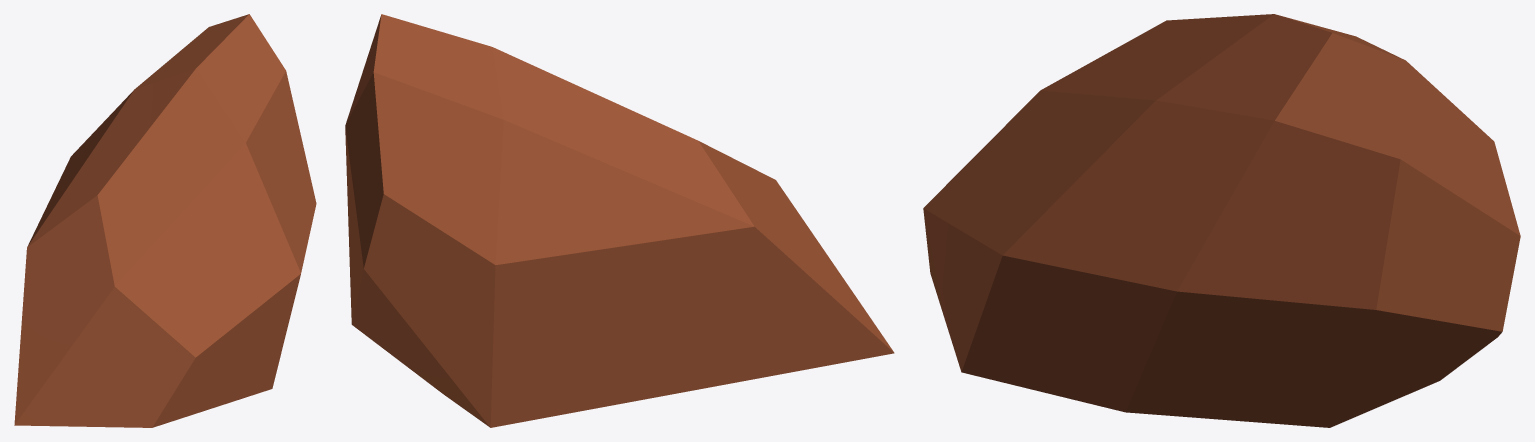
The model's file is StoneB.fbx.
3 renders of one model, left to right at view 1: azimuth 30°, elevation 25°; view 2: azimuth 150°, elevation 25°; view 3: azimuth 270°, elevation 25°, orthographic. The views are drawn at different scales.
Visible parts, largest first — view 1: Cube.045_cell.008; view 2: Cube.045_cell.008; view 3: Cube.045_cell.008.
Part boxes in pixels (x1,y1,x2,y2): Cube.045_cell.008: (14, 14, 316, 427); Cube.045_cell.008: (345, 14, 894, 427); Cube.045_cell.008: (923, 14, 1520, 427).
Bounding box in the file's own units: 0.7598 × 0.5563 × 0.73.
Materials: 1 (1 with a texture image).
